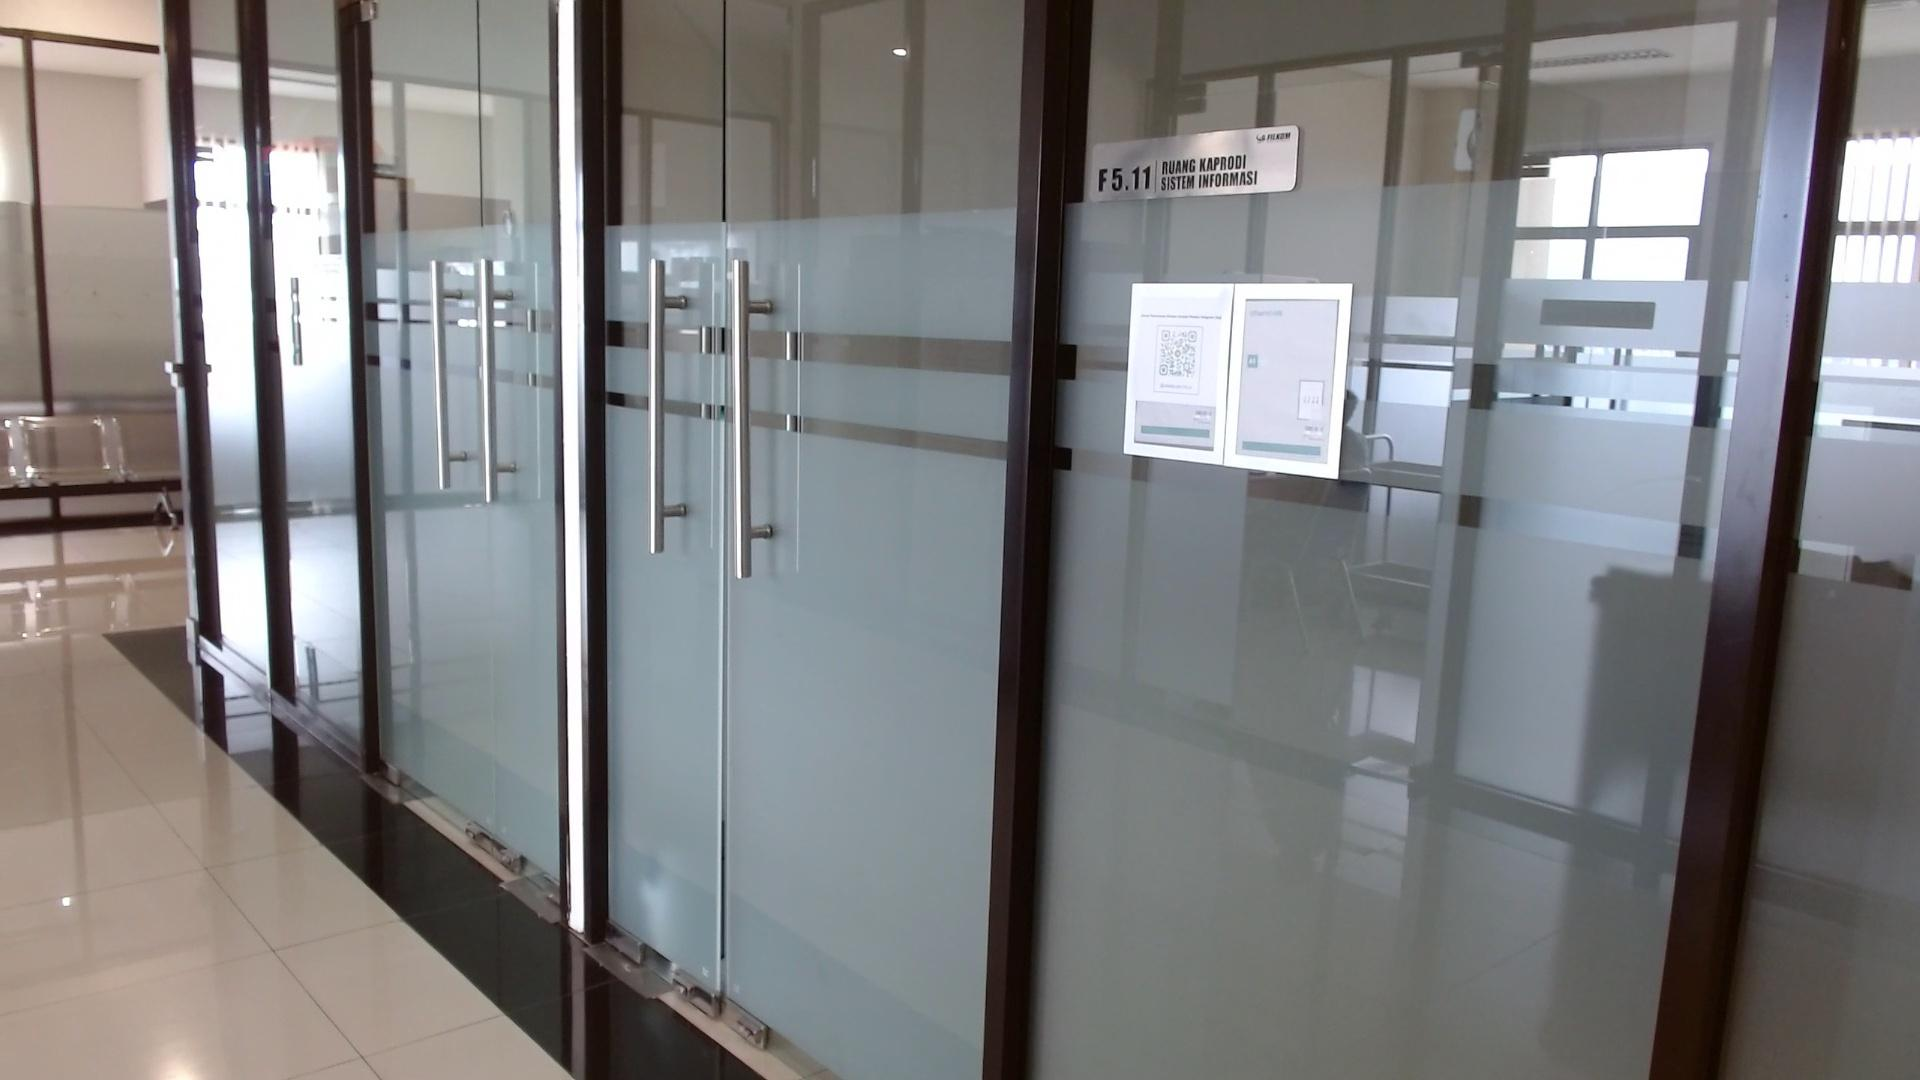plate: (1091, 123, 1299, 204)
